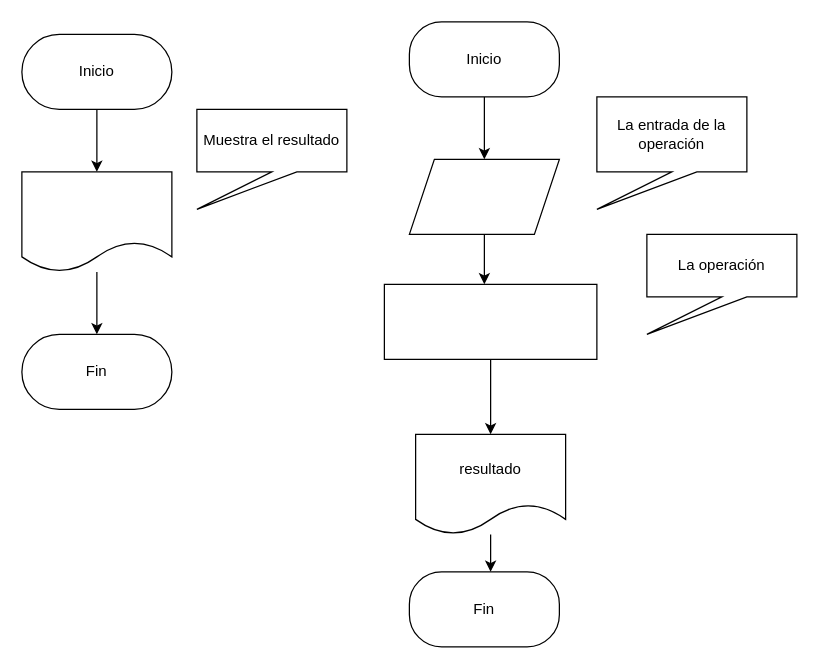
The diagram is 819 pixels wide and 669 high, and some of its shapes have lost their labels. Each missing label, with the box of its shape:
"Este es un diagrama de flujo": (21, 171, 172, 272)
num1 num2: (408, 158, 559, 234)
res = num1 + num2: (383, 283, 597, 359)
